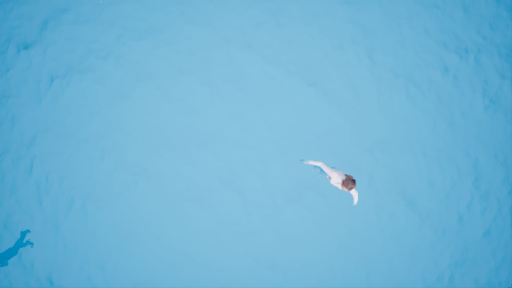person: (292, 155, 368, 209)
